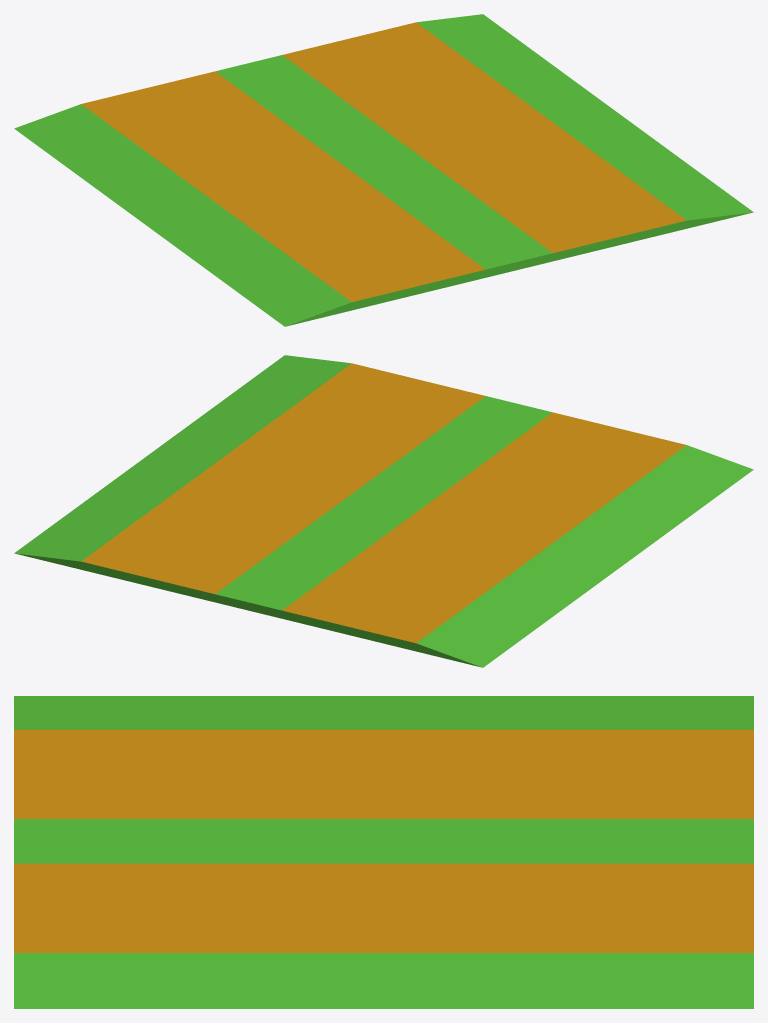
The model's file is Road Straight.fbx.
3 renders of one model, top to bottom at view 1: azimuth 30°, elevation 25°; view 2: azimuth 150°, elevation 25°; view 3: azimuth 270°, elevation 25°, orthographic. The views are drawn at different scales.
Visible parts, largest first — view 1: Road Straight; view 2: Road Straight; view 3: Road Straight.
Boxes of the visible parts, box(x1,y1,x2,y2) form: Road Straight: box(14, 14, 753, 326); Road Straight: box(14, 355, 753, 667); Road Straight: box(14, 696, 753, 1008).
Bounding box in the file's own units: 1200 × 20 × 1200.
